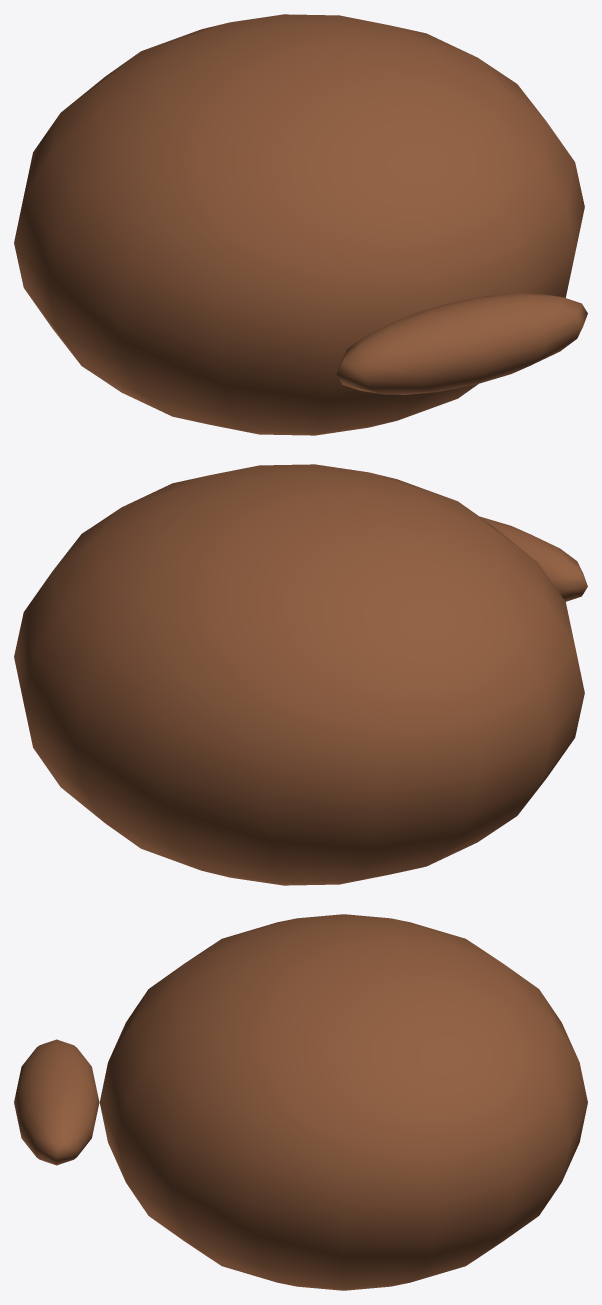
File: hair_short.glb
3 renders of one model, top to bottom at view 1: azimuth 30°, elevation 25°; view 2: azimuth 150°, elevation 25°; view 3: azimuth 270°, elevation 25°, orthographic. The views are drawn at different scales.
Parts seen in each view (by area): view 1: Hair; view 2: Hair; view 3: Hair.
Part boxes in pixels (x1,y1,x2,y2): Hair: (14,14,587,435); Hair: (14,464,587,885); Hair: (14,914,587,1290).
Bounding box in the file's own units: 14.06 × 9.37 × 15.74.
